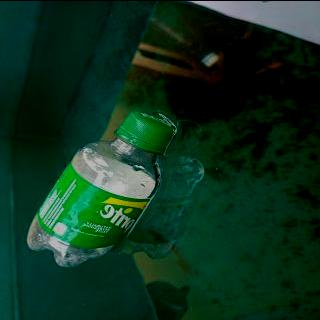bottle: (20, 108, 181, 268)
